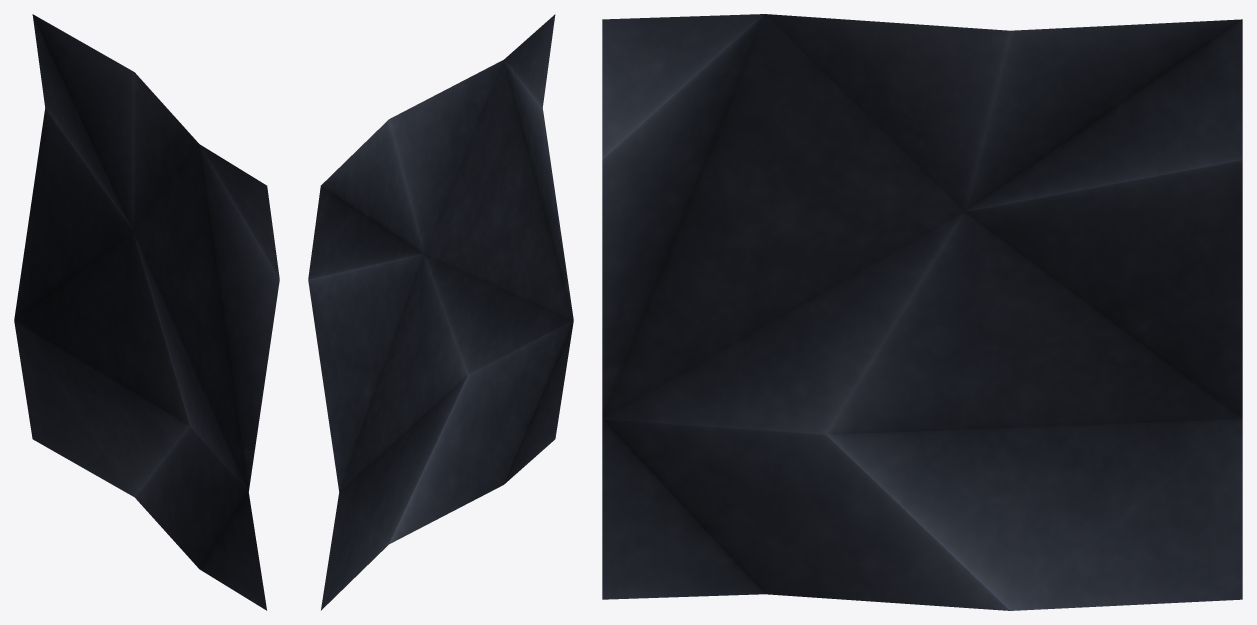
Rendered from SM_Wall_Face_B_A.fbx.
The picture shows the model from 3 angles, left to right: view 1: azimuth 30°, elevation 25°; view 2: azimuth 150°, elevation 25°; view 3: azimuth 270°, elevation 25°; orthographic projection. The views are drawn at different scales.
Visible parts, largest first — view 1: pCube270; view 2: pCube270; view 3: pCube270.
Part boxes in pixels (<box>): pCube270: <box>14,14,279,610</box>; pCube270: <box>308,14,573,610</box>; pCube270: <box>602,14,1242,610</box>.
Bounding box in the file's own units: 0.087 × 1 × 1.
